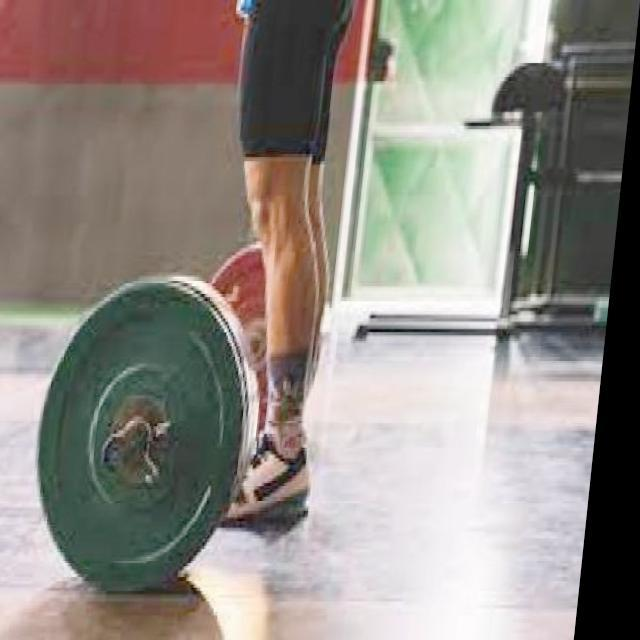barbell: (30, 270, 276, 604)
